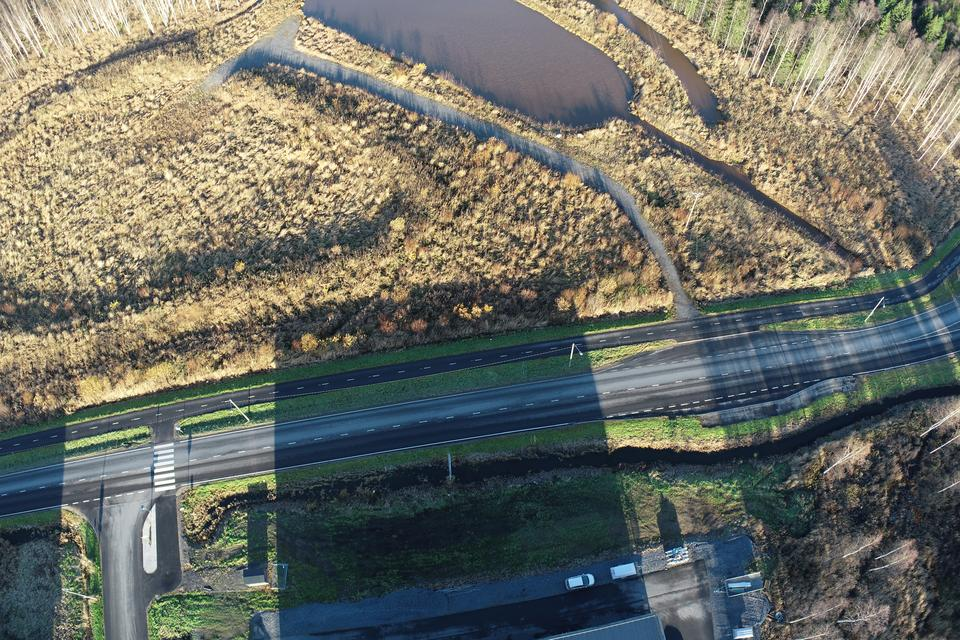intersection: (54, 379, 196, 586), (647, 276, 736, 442)
